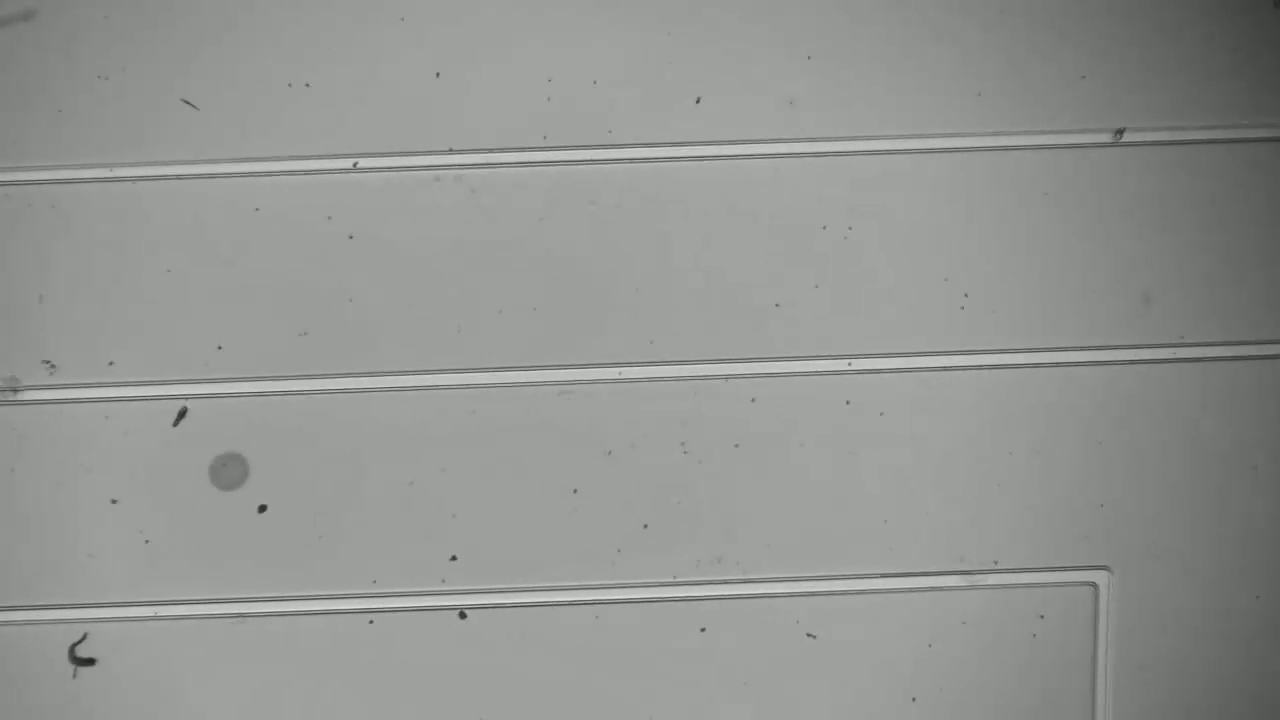stains_enbedded: (1103, 119, 1136, 153)
